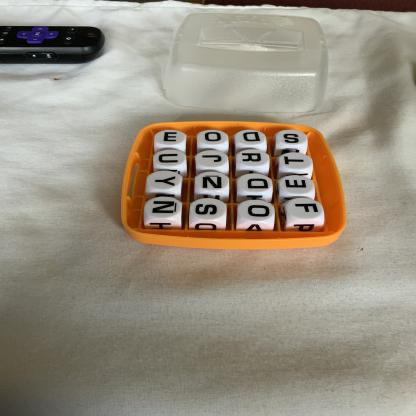d: (239, 174, 273, 194), (236, 131, 267, 147)
e: (281, 176, 315, 196), (155, 131, 187, 146)
f: (288, 199, 324, 221)
j: (197, 151, 229, 168)
n: (146, 198, 182, 220), (196, 173, 230, 192)
o: (239, 201, 275, 222), (198, 131, 229, 146)
r: (238, 151, 270, 168)
s: (191, 199, 228, 222), (279, 131, 308, 146)
t: (281, 153, 313, 170)
u: (155, 151, 187, 168)
y: (148, 172, 182, 191)
